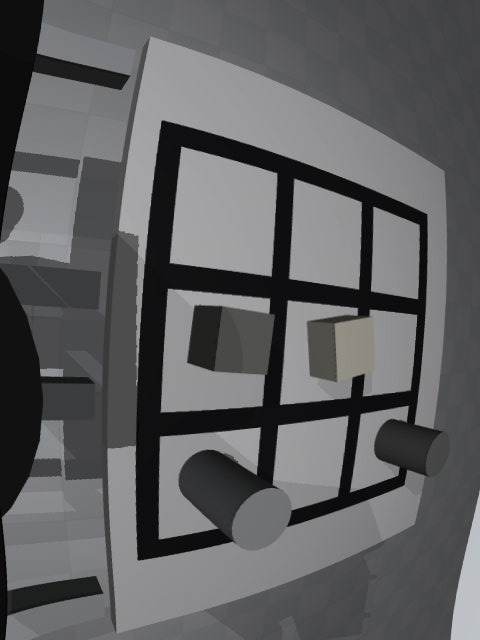can: (179, 450, 292, 551)
cube: (187, 306, 275, 375)
cylinder: (374, 419, 450, 478)
foam: (307, 316, 375, 382)
